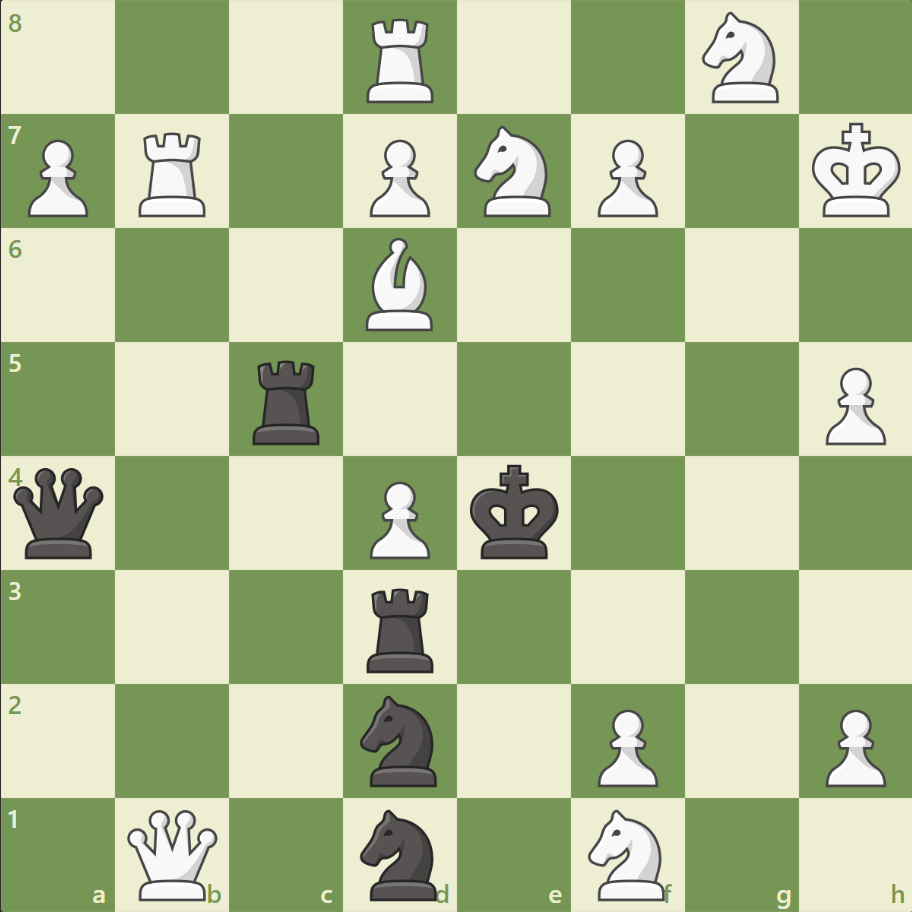B: (358, 233, 442, 336)
K: (806, 117, 906, 225)
N: (692, 7, 789, 110), (465, 121, 562, 223), (579, 802, 676, 904)
P: (20, 132, 95, 223), (361, 132, 435, 223), (588, 132, 662, 223), (815, 359, 889, 450), (361, 473, 435, 564), (588, 700, 662, 791), (815, 700, 889, 791)
Q: (124, 804, 223, 903)
R: (360, 12, 442, 109), (133, 125, 215, 222)
k: (465, 458, 565, 566)
n: (351, 688, 449, 791), (351, 802, 449, 904)
q: (10, 463, 109, 562)
r: (246, 352, 329, 449), (360, 579, 442, 676)
